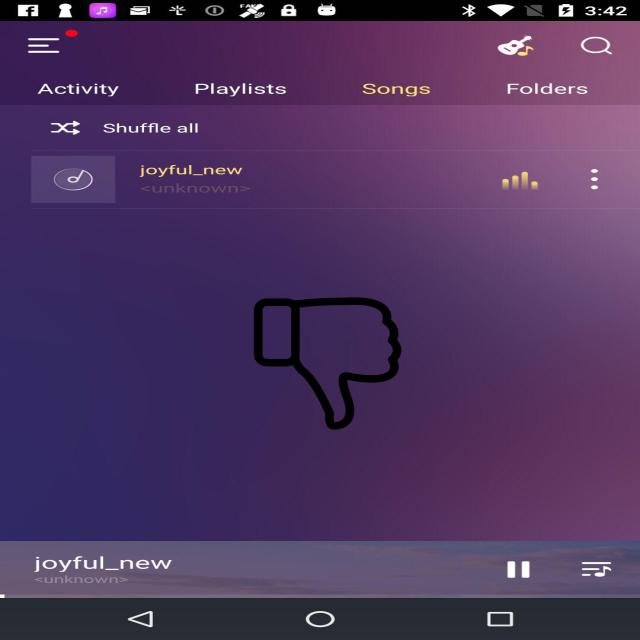obstruction: (252, 297, 403, 430)
